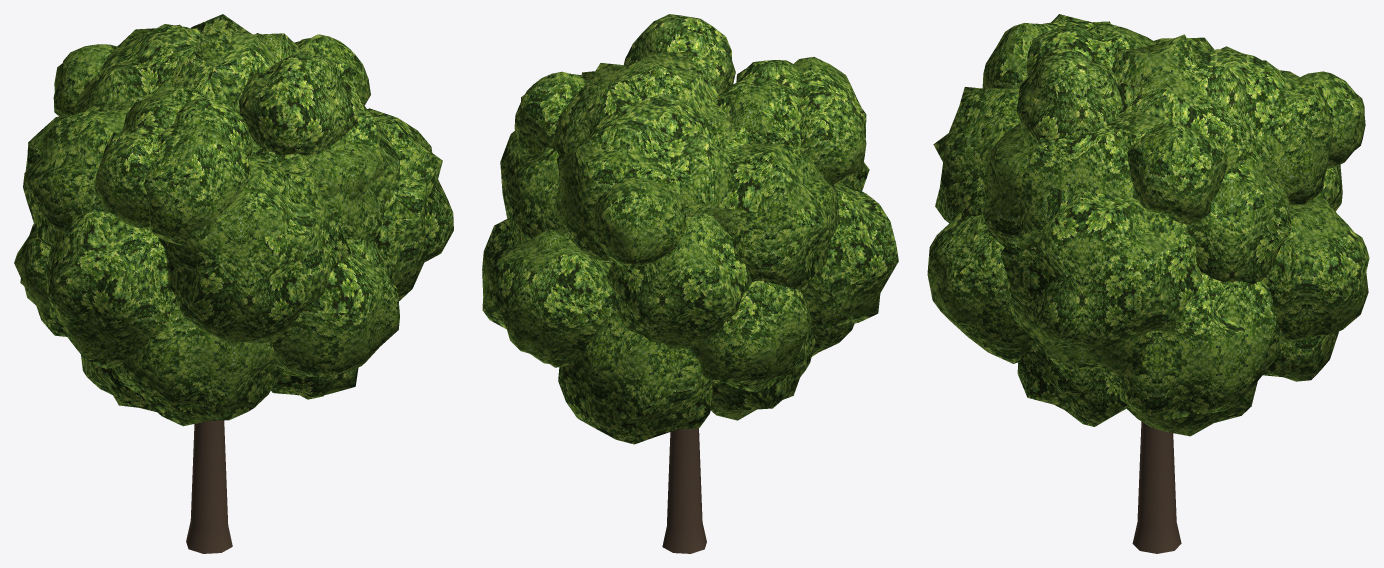
File: stadt_baum_linde.glb
The picture shows the model from 3 angles, left to right: view 1: azimuth 30°, elevation 25°; view 2: azimuth 150°, elevation 25°; view 3: azimuth 270°, elevation 25°; orthographic projection. The views are drawn at different scales.
Visible parts, largest first — view 1: Prop; view 2: Prop; view 3: Prop.
Part boxes in pixels (bbox=[...]): Prop: bbox=[14, 14, 453, 553]; Prop: bbox=[482, 14, 898, 553]; Prop: bbox=[927, 14, 1369, 553].
Size of the model in its own units: 0.8088 by 1 by 0.7786.
Materials: 2 (1 with a texture image).
